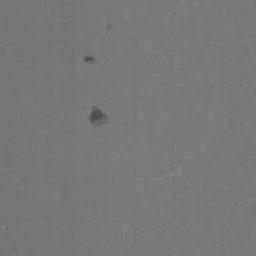Inclusion: (88, 105, 113, 127), (84, 55, 96, 64)
